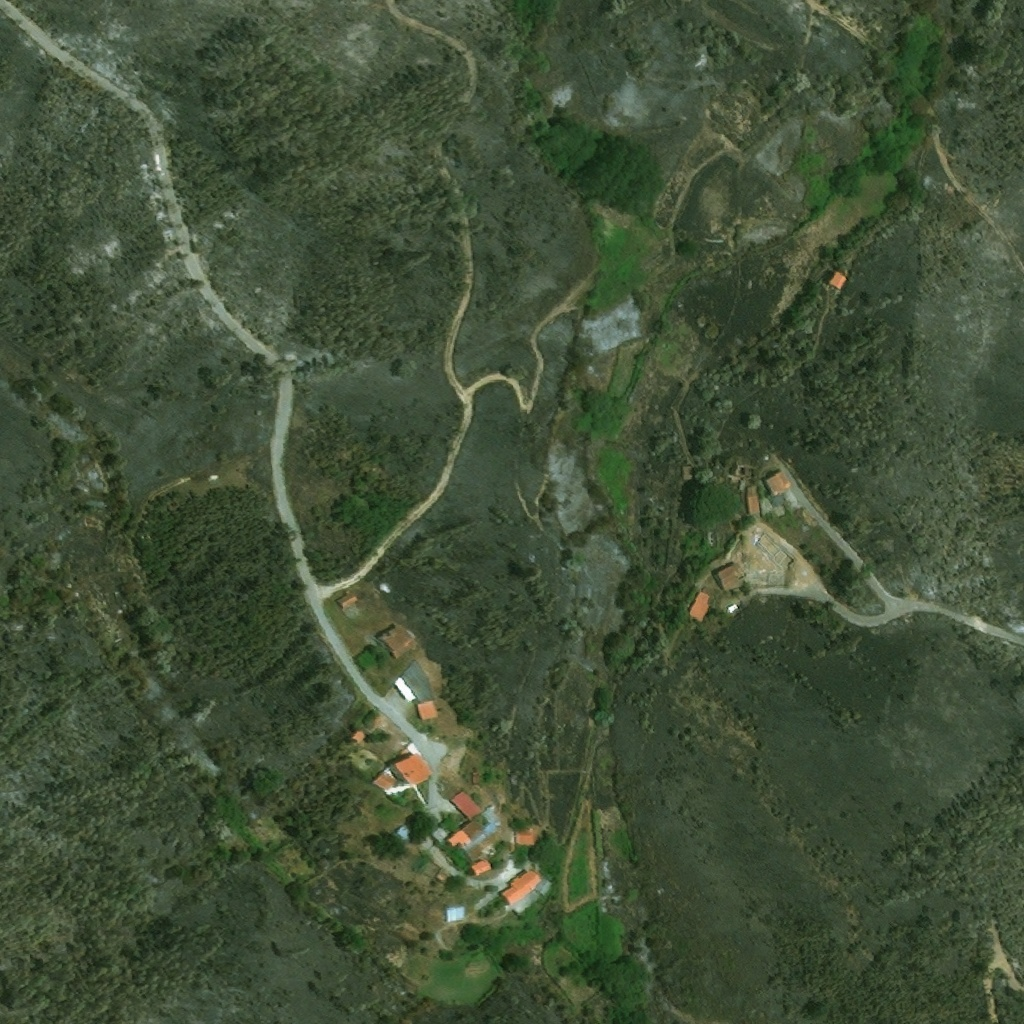0 no-damage: (432, 787, 506, 847), (371, 740, 436, 795), (395, 657, 439, 721), (500, 867, 555, 905), (764, 470, 801, 516), (377, 621, 419, 659), (387, 818, 423, 853), (686, 591, 712, 625), (716, 562, 745, 592), (514, 826, 544, 846), (826, 268, 847, 291), (469, 857, 494, 875), (335, 590, 359, 608), (747, 487, 760, 516), (349, 728, 368, 745), (445, 906, 464, 923), (472, 769, 481, 783)
3 destroyed: (759, 532, 789, 563), (745, 573, 793, 590)
